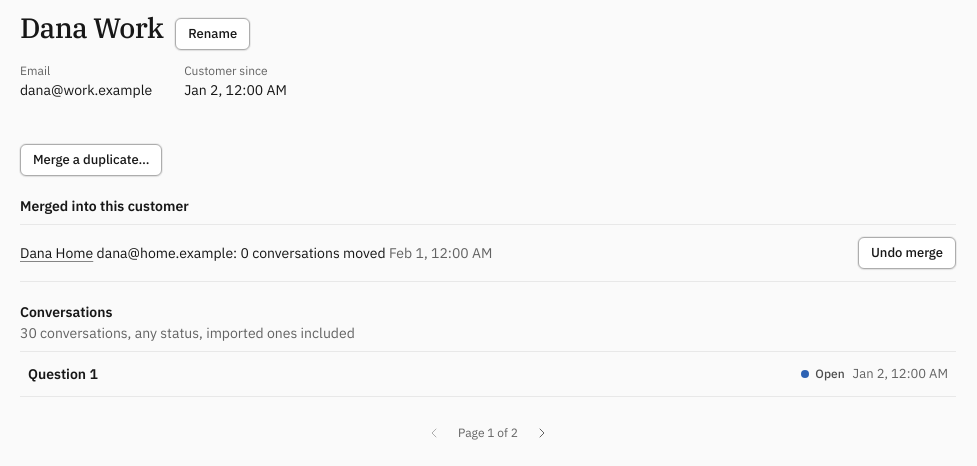
Test: the history page stays within the pages the customer has after an undo
The width and height of the screenshot is (977, 466).
What coordinates should you click on to do the following:
click the button named "Next page"
I would click on:
 (542, 433)
Its box is left=526, top=417, right=558, bottom=449.
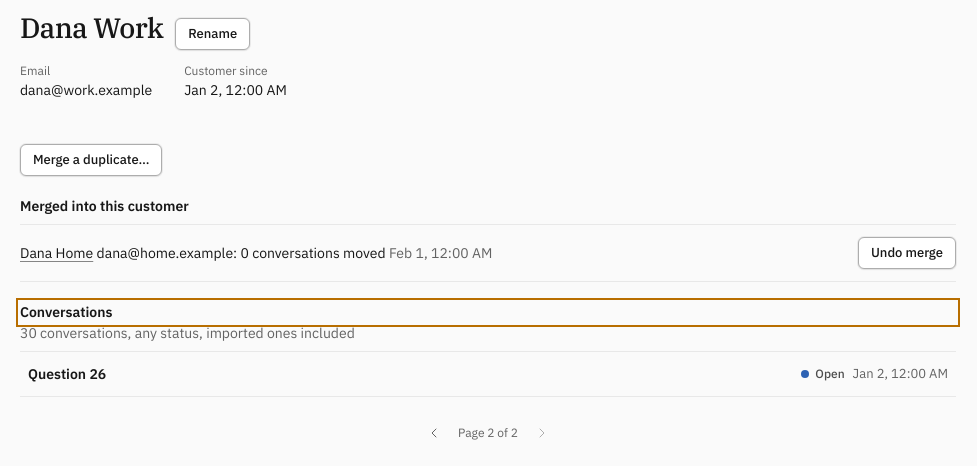
Expected: the text "Question 26" is shown, left=28, top=364, right=106, bottom=384
What coordinates should you click on to do the following:
click the button with aria-label "Undo merge of dana@home.example"
I would click on:
 (907, 253)
Its box is left=858, top=237, right=956, bottom=269.
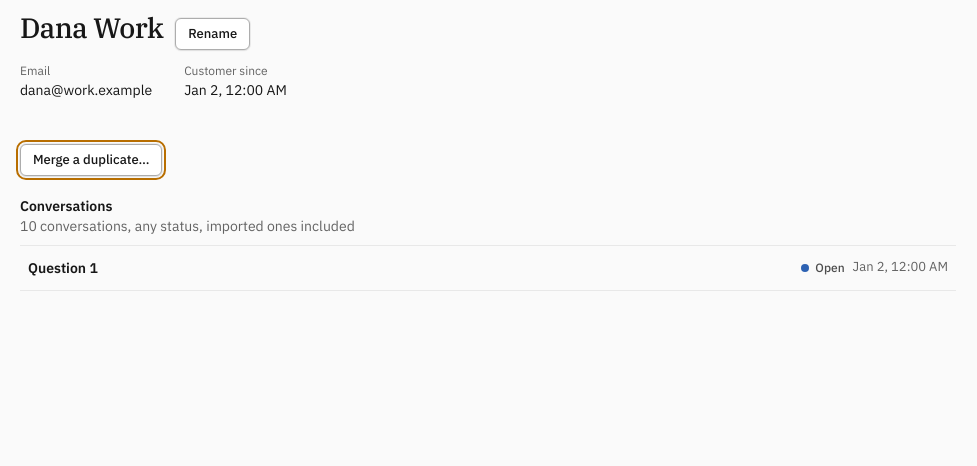
Expected: the text "Question 1" is shown, left=28, top=258, right=98, bottom=278
